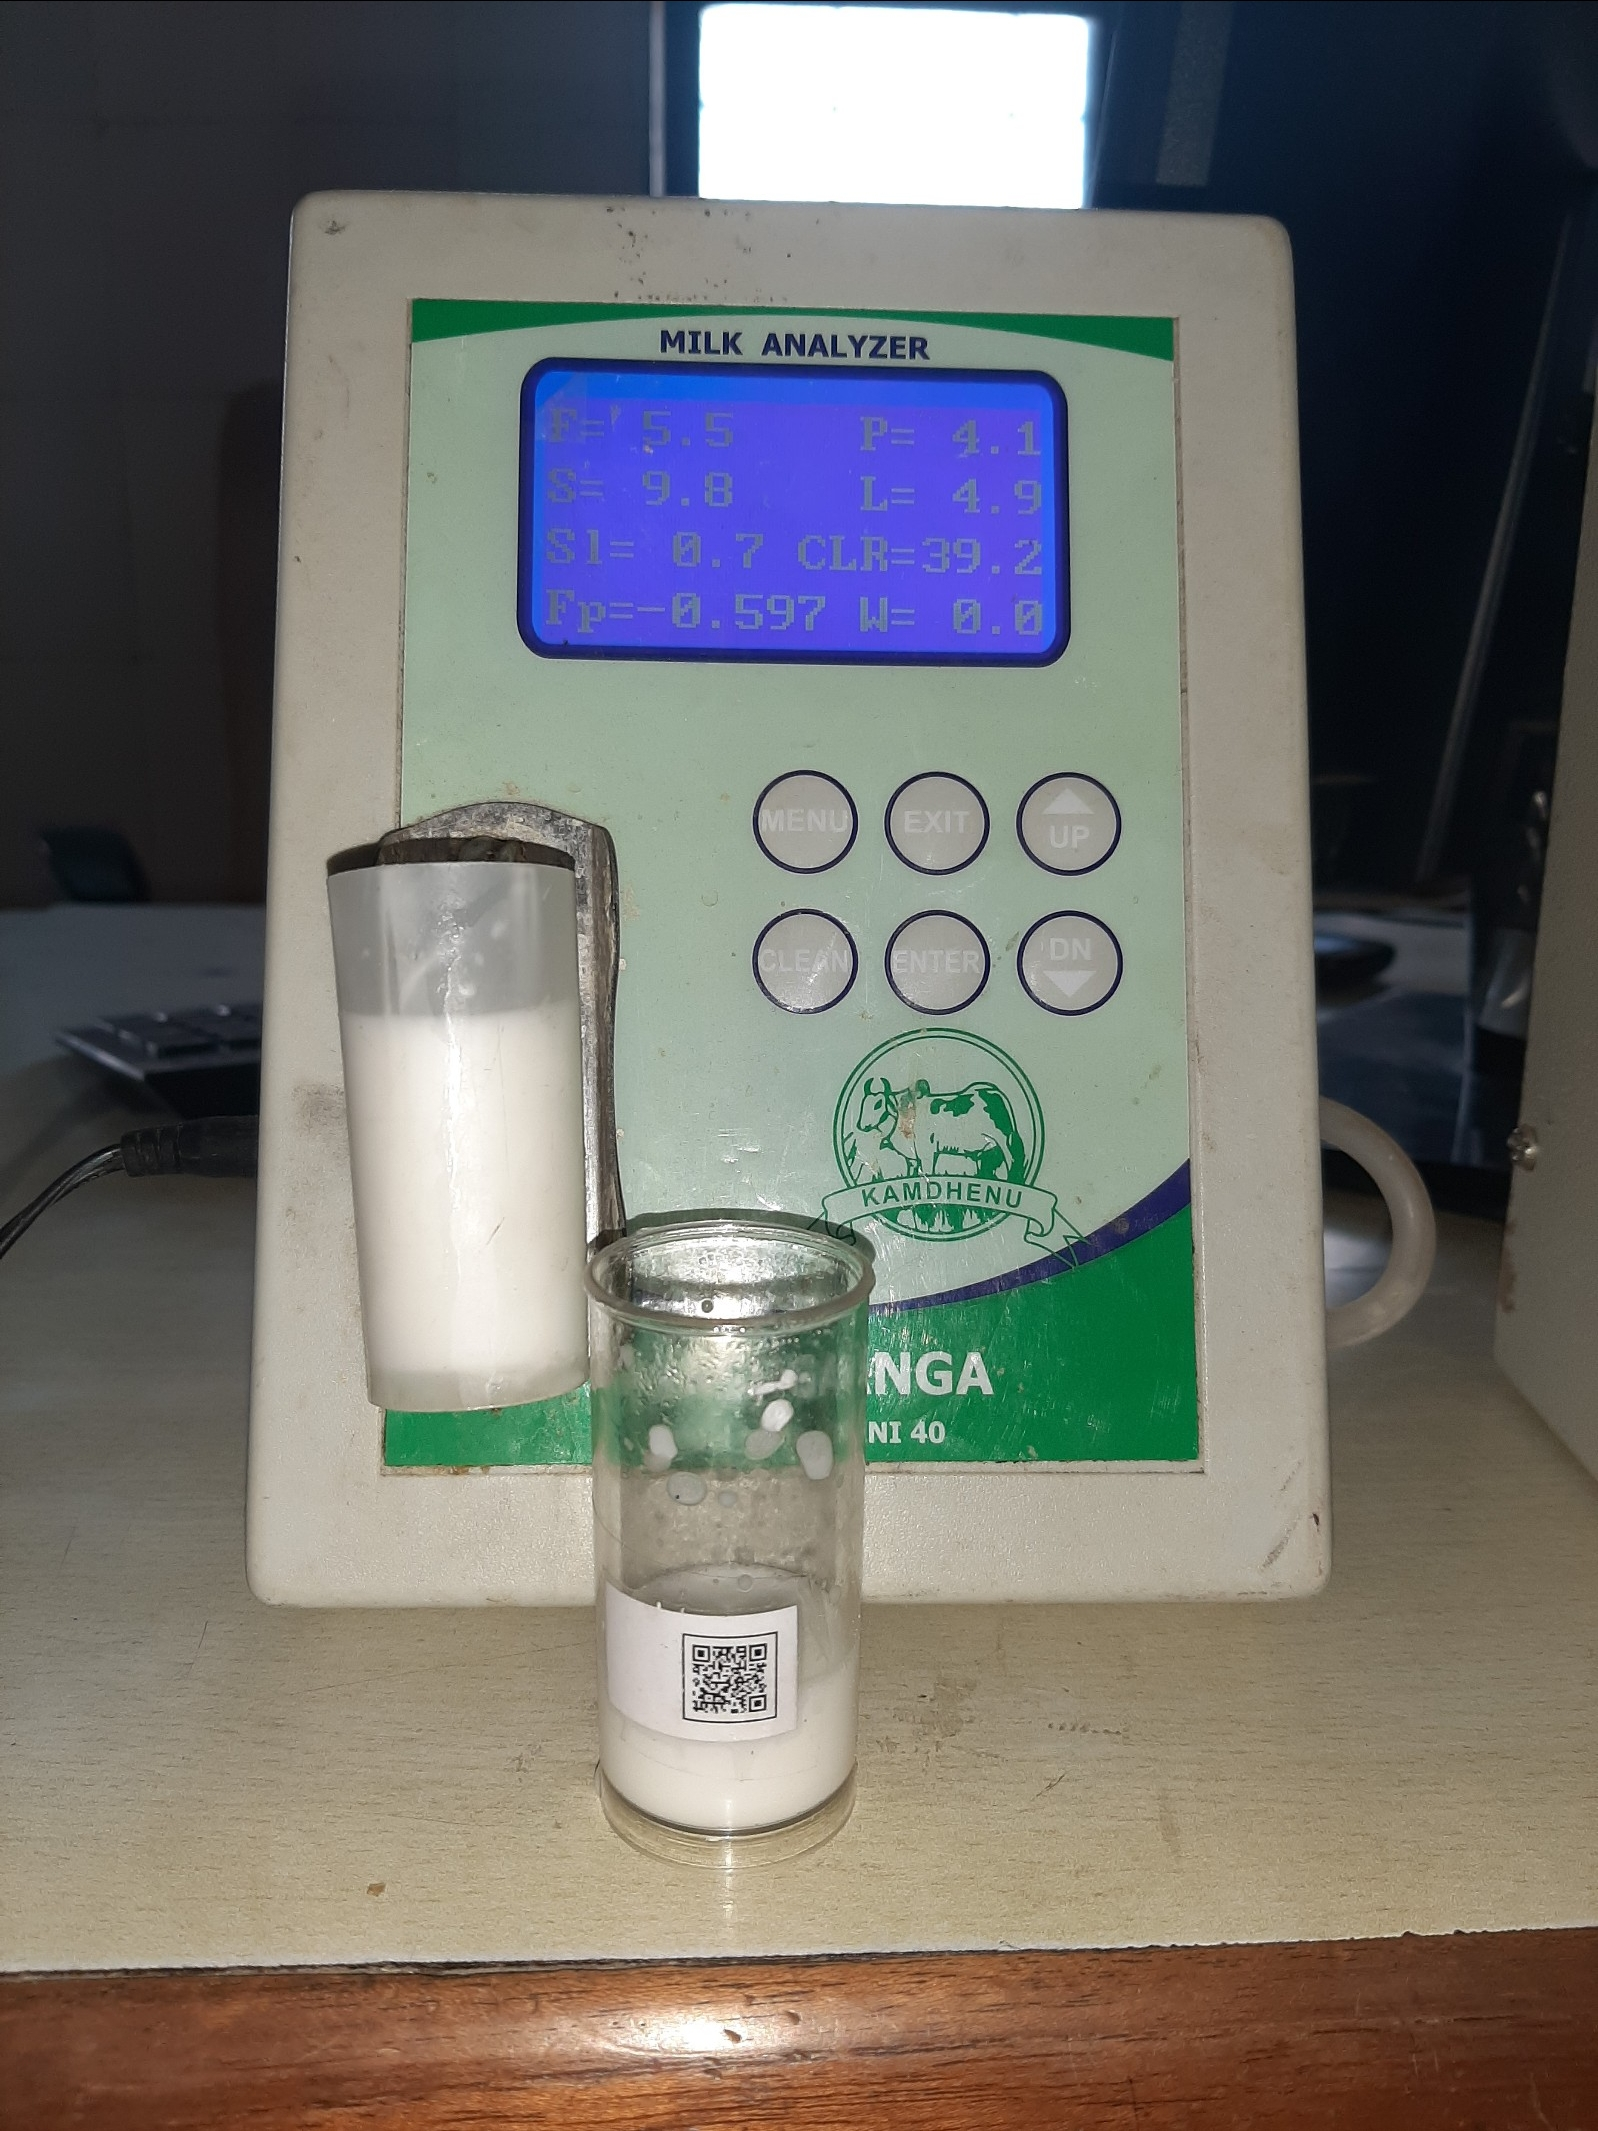lcd: (487, 349, 1113, 700)
qr: (665, 1623, 812, 1748)
